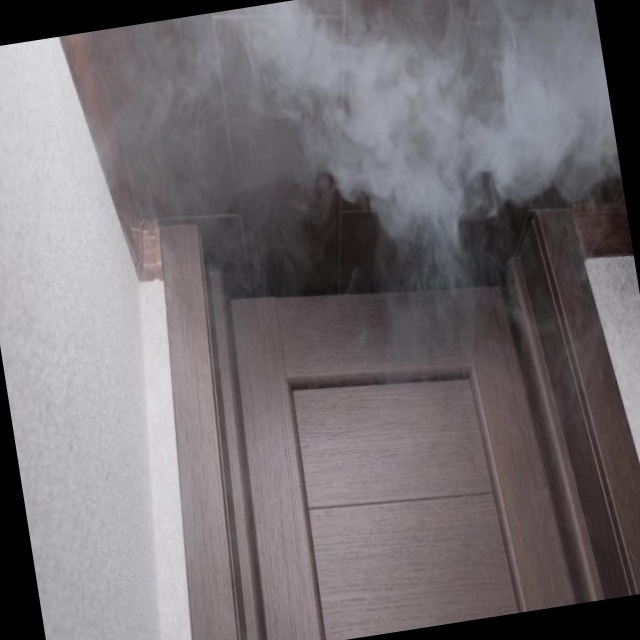smoke: (314, 0, 628, 262)
